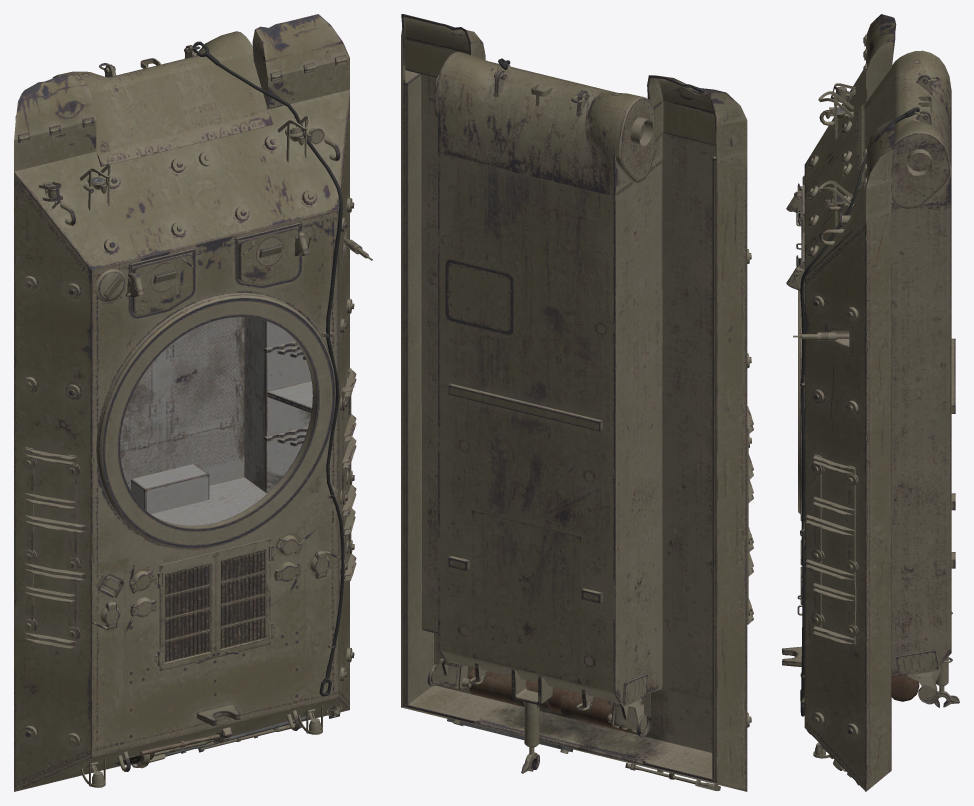
Rendered from Hull.glb.
3 renders of one model, left to right at view 1: azimuth 30°, elevation 25°; view 2: azimuth 150°, elevation 25°; view 3: azimuth 270°, elevation 25°, orthographic. The views are drawn at different scales.
Parts seen in each view (by area): view 1: set_0_group_0; view 2: set_0_group_0; view 3: set_0_group_0.
Boxes of the visible parts, x1,y1,x2,y2 form: set_0_group_0: (14,14,372,791); set_0_group_0: (401,14,753,791); set_0_group_0: (782,14,959,791).
Size of the model in its own units: 3.05 by 6.01 by 1.51.
Materials: 1 (1 with a texture image).
